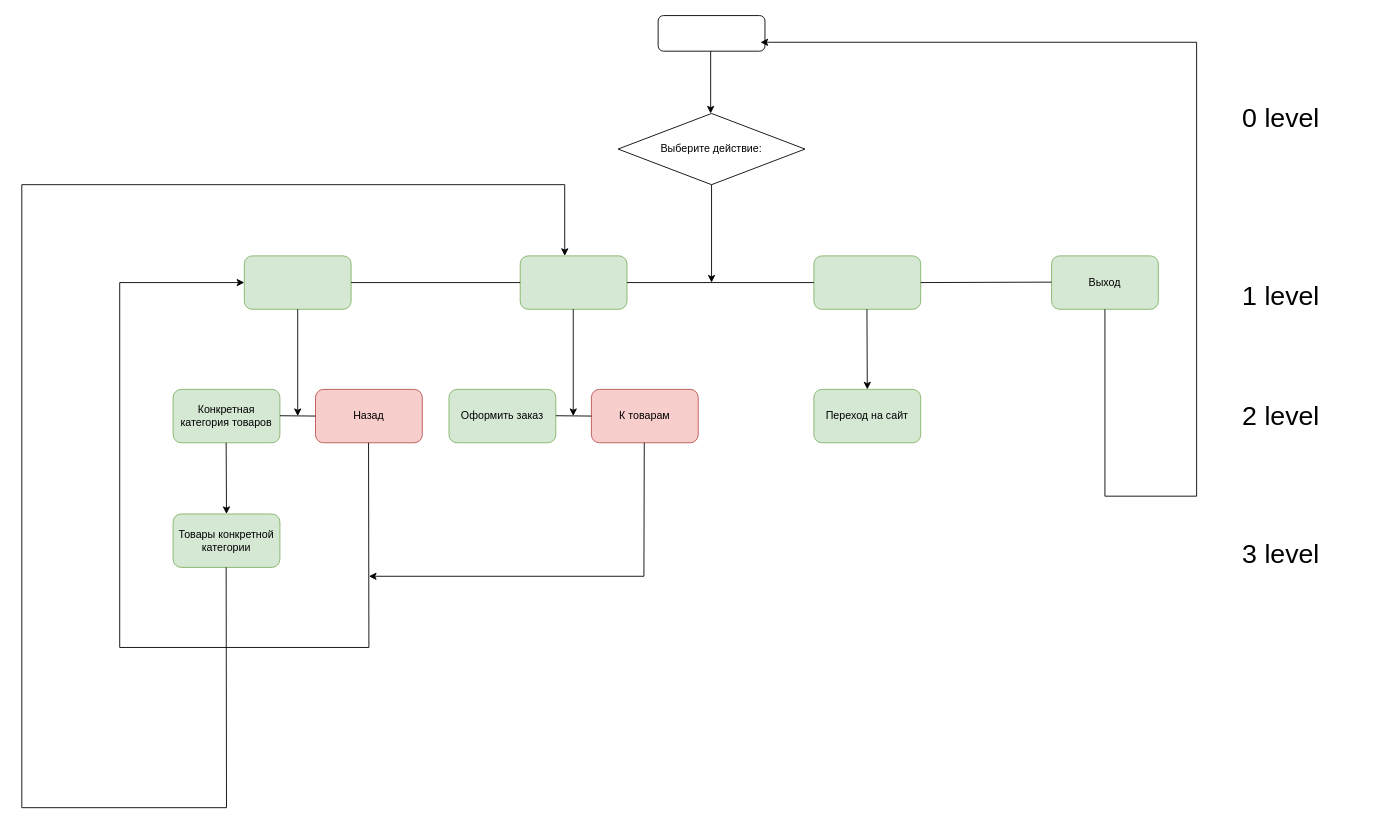
Image size: 1390x830. Some labels were removed from this diagram. Here are the shapes that lost their labels. From the top down, the centre of each, then its label:
point (711, 33): /start
point (297, 282): Категории
point (573, 282): Корзина
point (867, 282): Информация
